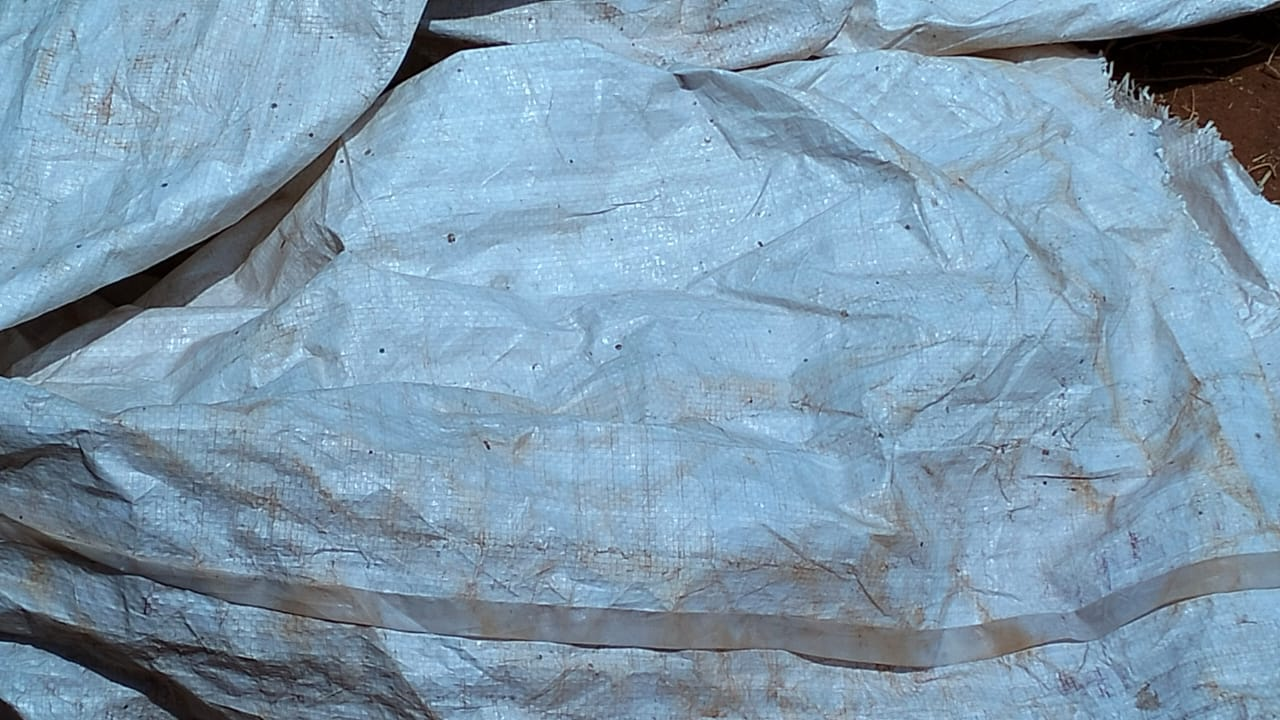pbag: (1, 17, 1280, 720)
